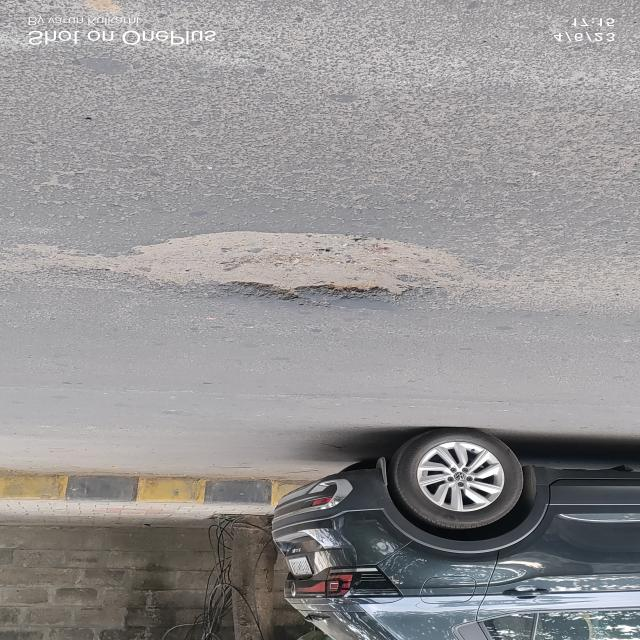potholes: (99, 230, 488, 304)
